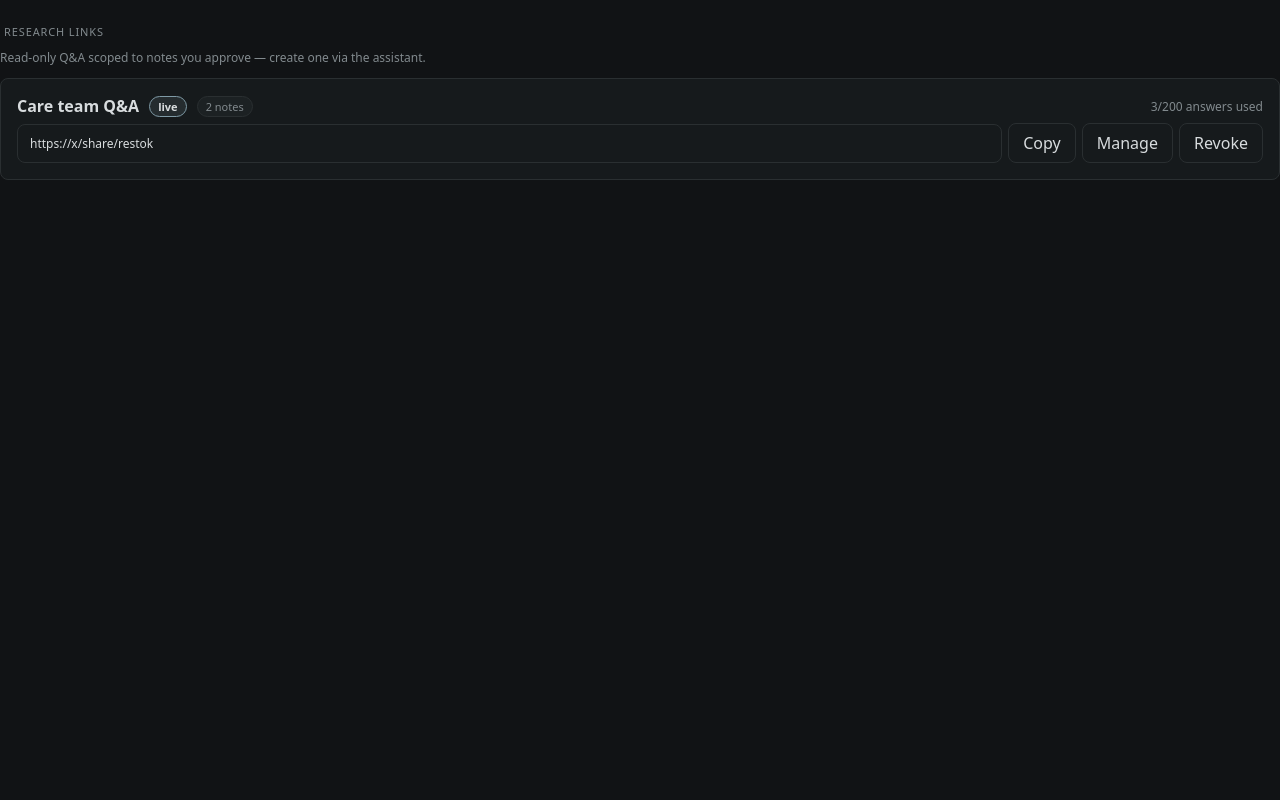
Test case: ResearchLinks — Manage modal › opens the modal and loads detail: approved notes + pending candidates
Click the button "Manage".
click(1127, 143)  # box [1082, 123, 1173, 163]
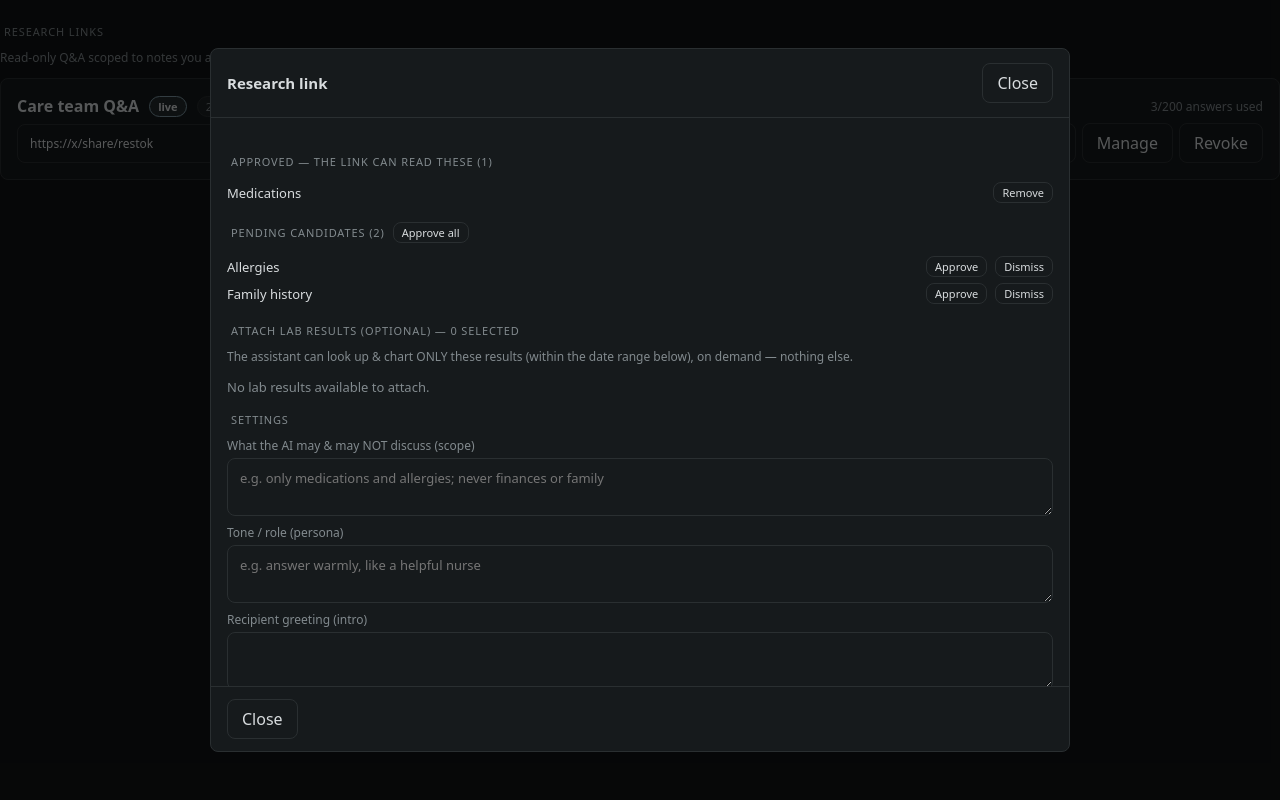
Now the text "Medications" is shown, box [227, 184, 301, 202]
Now the text "Allergies" is shown, box [227, 258, 280, 276]
Now the text "Approved — the link can read these (1)" is shown, box [231, 154, 493, 169]
